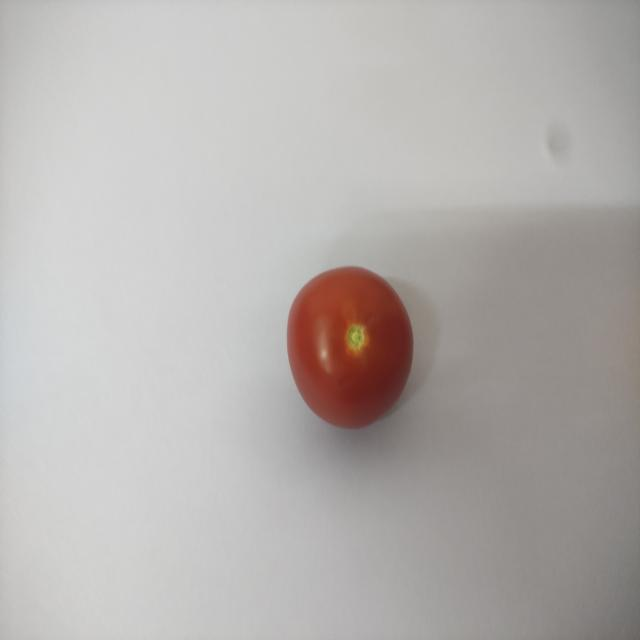kirmizi: (278, 260, 415, 428)
